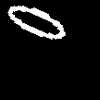chain: (8, 6, 64, 38)
